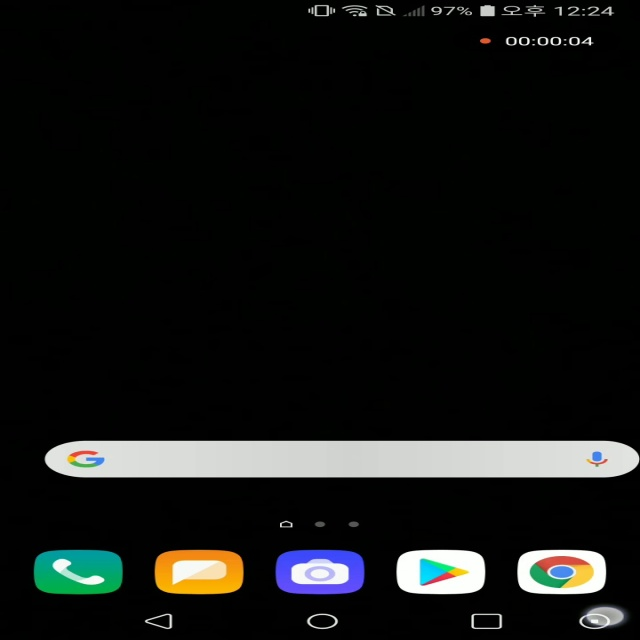Cursor: (584, 605, 628, 627)
